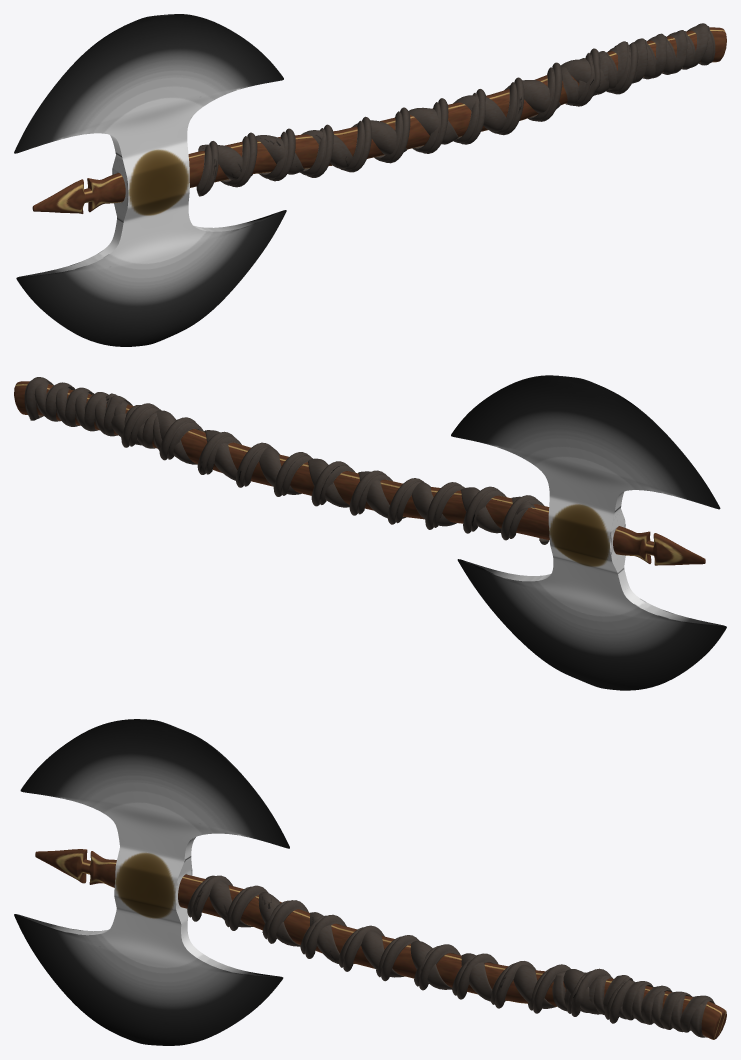
3 renders of one model, top to bottom at view 1: azimuth 30°, elevation 25°; view 2: azimuth 150°, elevation 25°; view 3: azimuth 330°, elevation 25°, orthographic.
Visible parts, largest first — view 1: Cylinder.002; view 2: Cylinder.002; view 3: Cylinder.002.
Part boxes in pixels (x1,y1,x2,y2): Cylinder.002: (14, 14, 726, 346); Cylinder.002: (14, 375, 726, 690); Cylinder.002: (14, 719, 726, 1045).
Size of the model in its own units: 87.84 by 37.49 by 4.5.
1 material, 1 textured.
